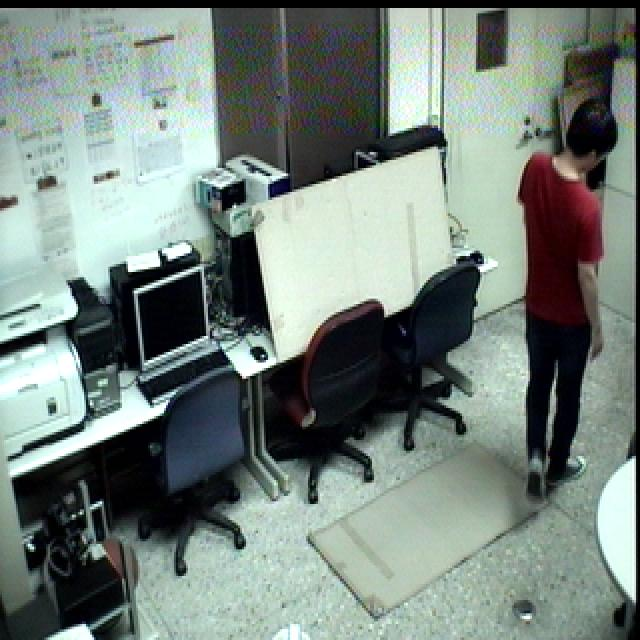stand: (511, 88, 626, 508)
